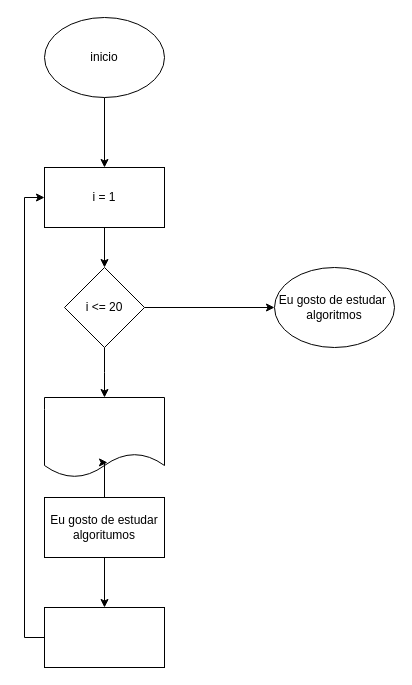
This 412x685 diagram has some shape labels left out. The shapes that lost their labels are listed below. From the top down, each one's centre as x and y in pixels, then its label:
the point at 104,437: sim
the point at 104,637: i++
